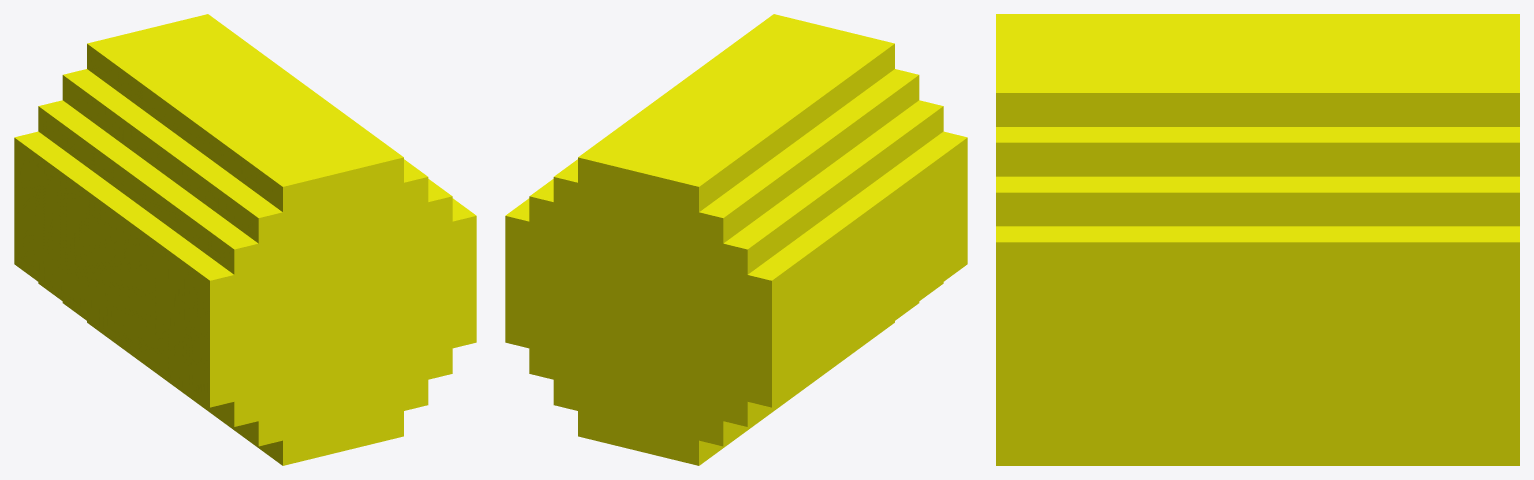
The model's file is voxel-farm-hay-bale.glb.
3 views of the same model, side by side, from view 1: azimuth 30°, elevation 25°; view 2: azimuth 150°, elevation 25°; view 3: azimuth 270°, elevation 25° (orthographic). The views are drawn at different scales.
Parts seen in each view (by area): view 1: VS_Farm_HayBale; view 2: VS_Farm_HayBale; view 3: VS_Farm_HayBale.
Boxes of the visible parts, bbox=[...] form: VS_Farm_HayBale: bbox=[14, 14, 476, 465]; VS_Farm_HayBale: bbox=[505, 14, 967, 465]; VS_Farm_HayBale: bbox=[996, 14, 1519, 465].
Size of the model in its own units: 1.1 by 1.1 by 1.4.
